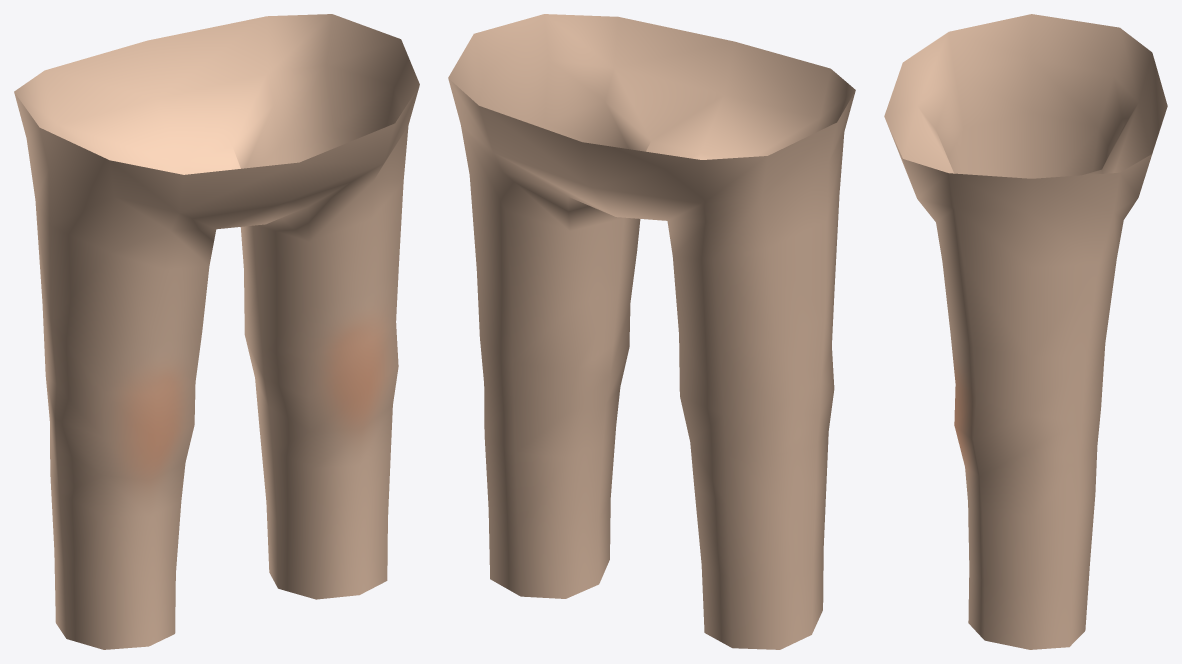
Rendered from Body_White_Bottom_2.fbx.
The picture shows the model from 3 angles, left to right: view 1: azimuth 30°, elevation 25°; view 2: azimuth 150°, elevation 25°; view 3: azimuth 270°, elevation 25°; orthographic projection. The views are drawn at different scales.
Parts seen in each view (by area): view 1: Body_White_Bottom_2; view 2: Body_White_Bottom_2; view 3: Body_White_Bottom_2.
Boxes of the visible parts, box(x1,y1,x2,y2) form: Body_White_Bottom_2: box(14, 14, 419, 649); Body_White_Bottom_2: box(448, 14, 855, 649); Body_White_Bottom_2: box(884, 14, 1167, 649).
Size of the model in its own units: 34.87 by 48 by 25.35.
